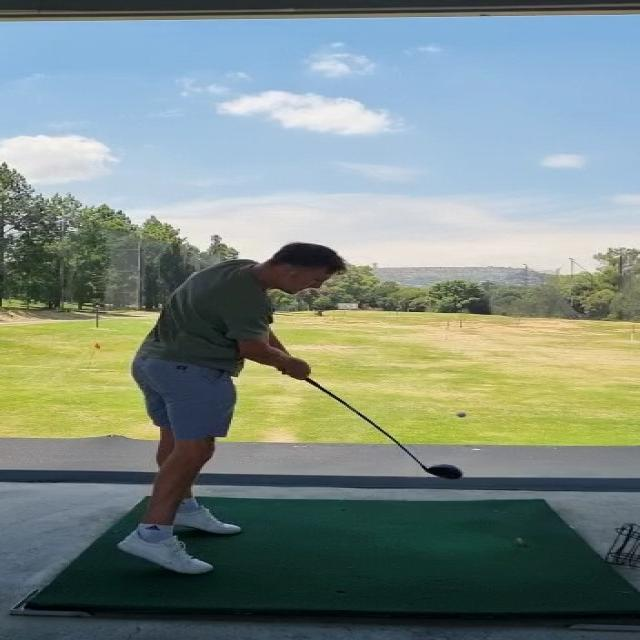club head: (423, 464, 468, 482)
